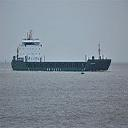Ships: (10, 30, 117, 73)
